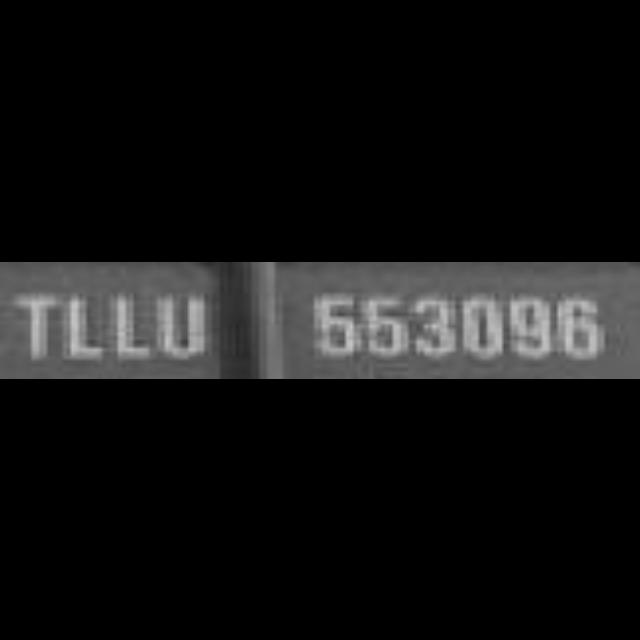0: (458, 280, 508, 366)
3: (411, 282, 463, 368)
5: (309, 288, 363, 367), (362, 286, 410, 370)
6: (554, 287, 610, 369)
9: (508, 284, 556, 368)
l: (110, 281, 156, 373), (63, 288, 107, 372)
t: (10, 282, 66, 374)
u: (154, 279, 213, 369)
